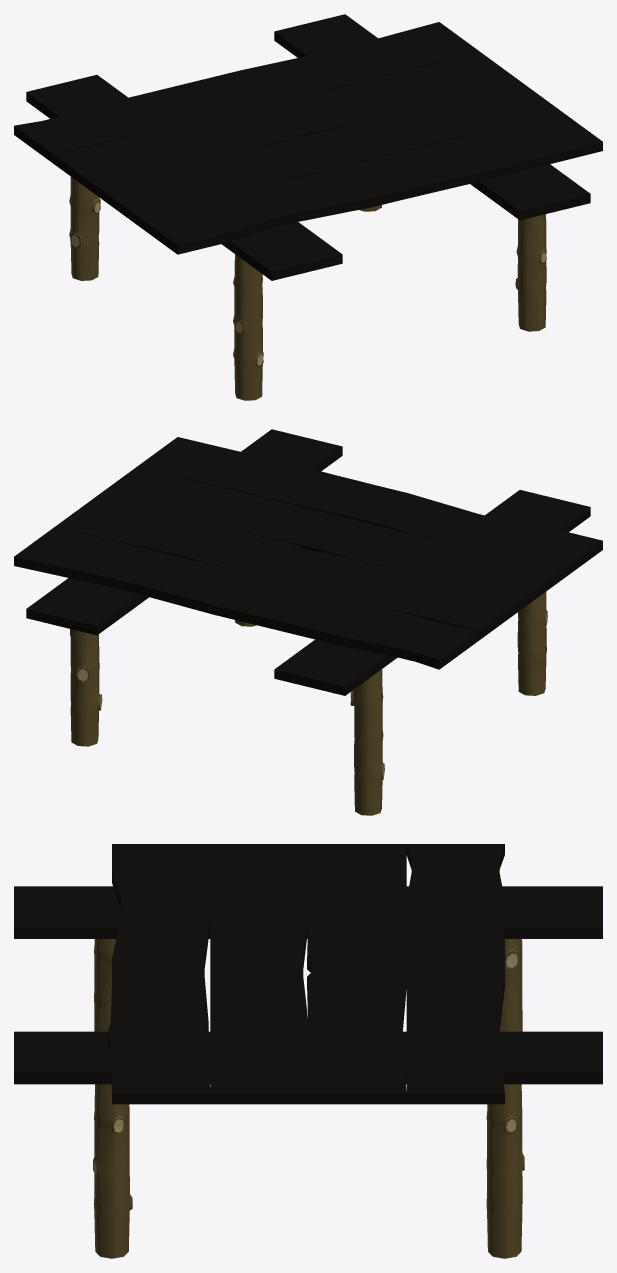
The model's file is Platform_Build_V4.fbx.
3 views of the same model, one above another, from view 1: azimuth 30°, elevation 25°; view 2: azimuth 150°, elevation 25°; view 3: azimuth 270°, elevation 25° (orthographic). The views are drawn at different scales.
Parts seen in each view (by area): view 1: polySurface33; view 2: polySurface33; view 3: polySurface33.
Part boxes in pixels (bbox=[...]): polySurface33: bbox=[14, 14, 602, 400]; polySurface33: bbox=[14, 429, 602, 815]; polySurface33: bbox=[14, 844, 602, 1258].
Size of the model in its own units: 6 by 2.25 by 6.
